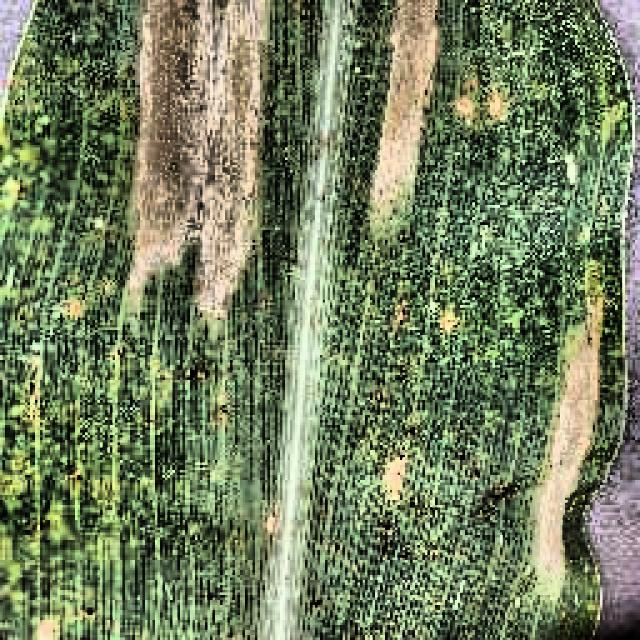blight: (22, 0, 627, 640)
